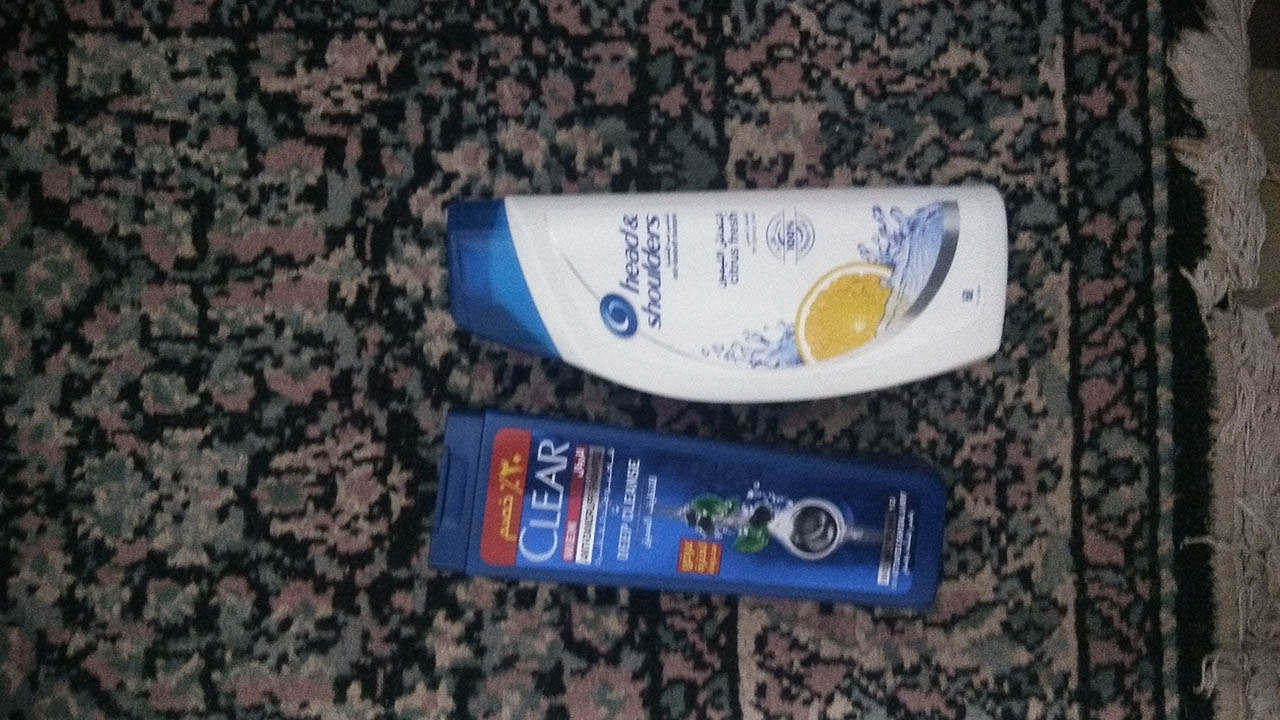Shampoo-Clear 4.7$: (412, 439, 972, 590)
shampoo-Lemon 3.5$: (451, 183, 1029, 388)
